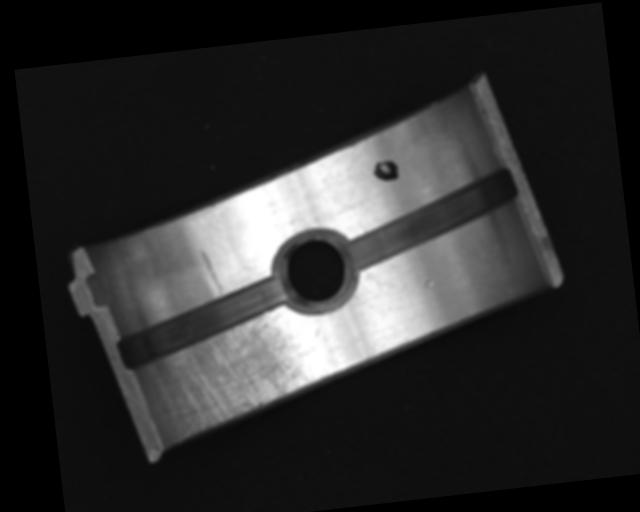blot: (371, 157, 400, 184)
bruise: (423, 277, 434, 290)
gap: (339, 166, 524, 273), (112, 275, 293, 370)
hole: (271, 225, 360, 317)
nick: (199, 247, 224, 300), (350, 290, 382, 319)
scratch: (143, 307, 327, 448)
